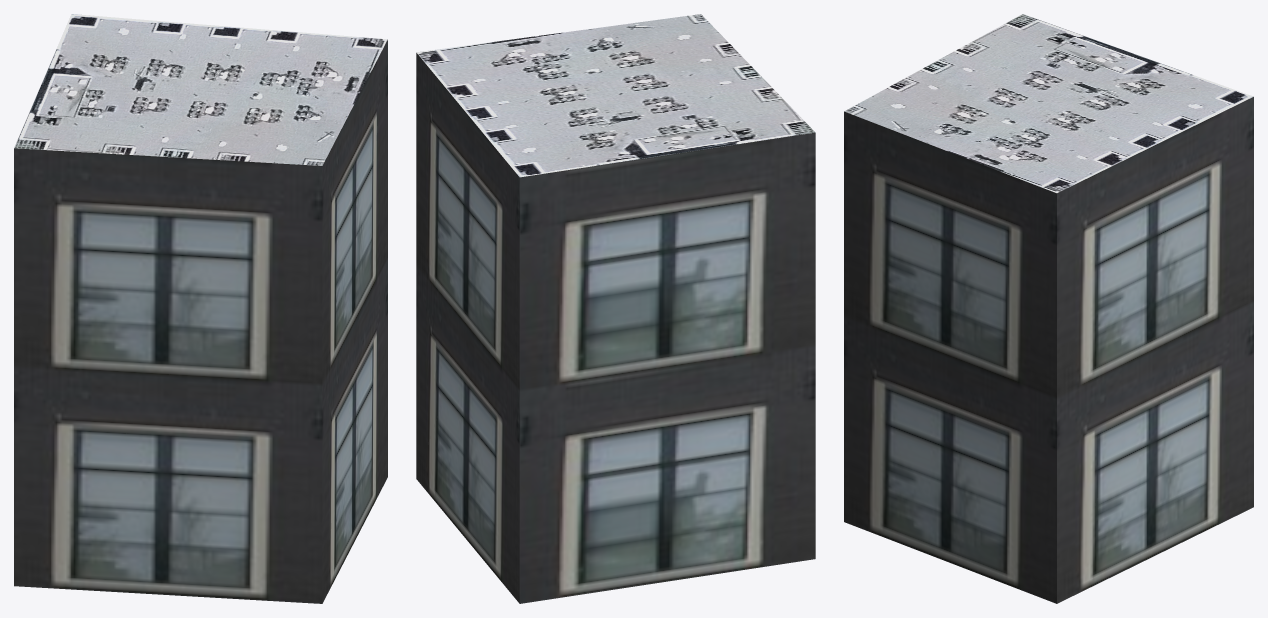
File: ResTex__585.fbx
The picture shows the model from 3 angles, left to right: view 1: azimuth 30°, elevation 25°; view 2: azimuth 150°, elevation 25°; view 3: azimuth 270°, elevation 25°; orthographic projection. The views are drawn at different scales.
Visible parts, largest first — view 1: CityEngineMaterial_22_m, CityEngineMaterial_4_m; view 2: CityEngineMaterial_22_m, CityEngineMaterial_4_m; view 3: CityEngineMaterial_22_m, CityEngineMaterial_4_m.
Boxes of the visible parts, bbox=[...] form: CityEngineMaterial_22_m: bbox=[14, 40, 387, 603]; CityEngineMaterial_4_m: bbox=[14, 14, 387, 165]; CityEngineMaterial_22_m: bbox=[416, 53, 815, 603]; CityEngineMaterial_4_m: bbox=[416, 14, 815, 177]; CityEngineMaterial_22_m: bbox=[844, 97, 1253, 603]; CityEngineMaterial_4_m: bbox=[844, 14, 1253, 193].
Bounding box in the file's own units: 5.62 × 6 × 5.43.
Materials: 2 (2 with a texture image).
